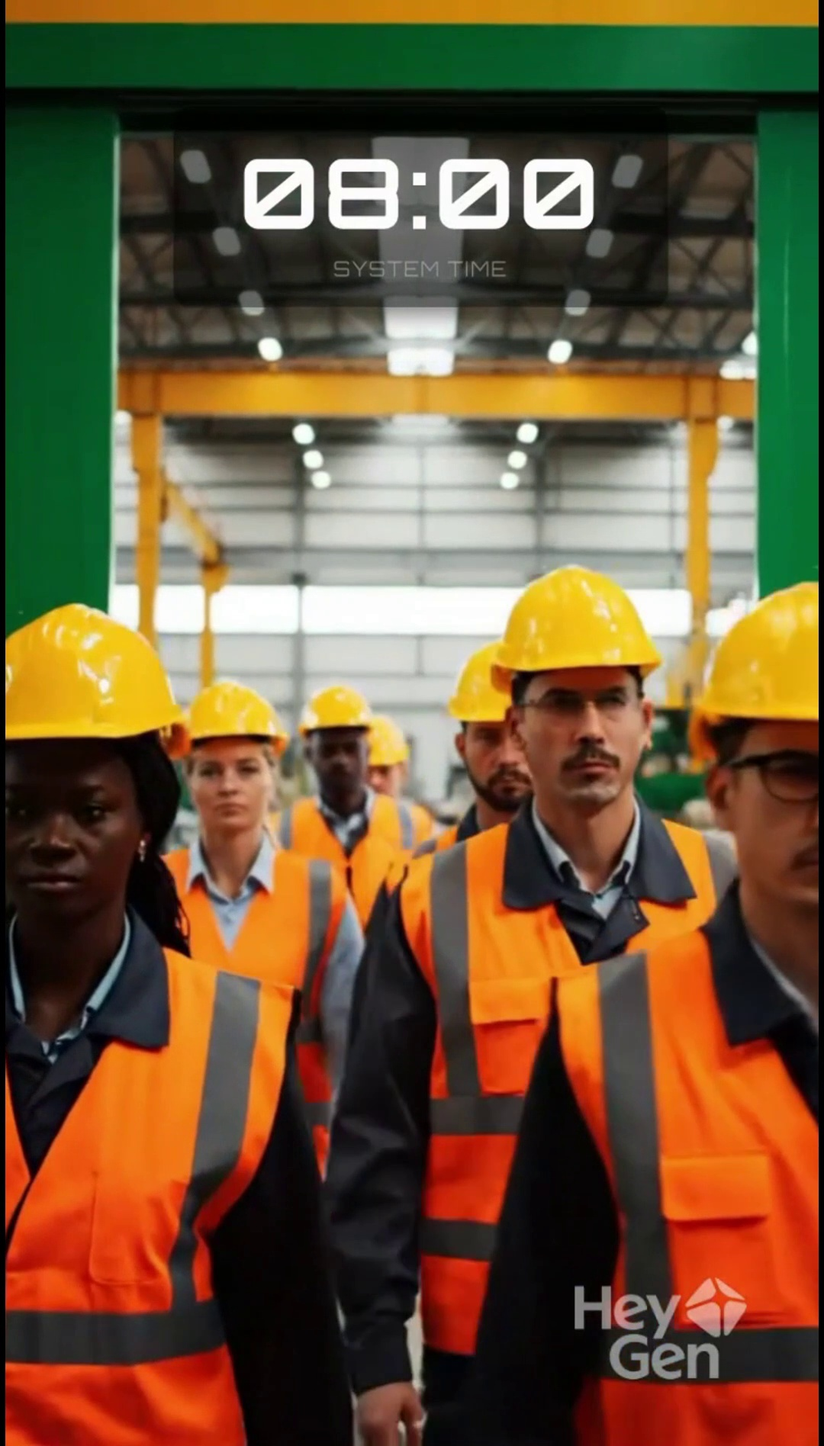Adem: (509, 602, 651, 878)
Alena: (0, 649, 171, 970)
Ali: (449, 663, 511, 840)
Mohamed: (728, 611, 824, 954)
Seline: (186, 706, 264, 892)
porte_verte: (7, 2, 815, 421)
temp: (2, 606, 193, 1446), (490, 569, 684, 1372), (685, 600, 824, 1441), (190, 657, 325, 1334), (199, 124, 663, 307), (425, 638, 539, 1374)
